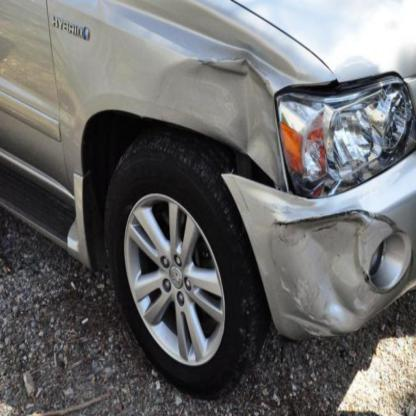door: (1, 1, 80, 255)
front_bumper: (223, 151, 416, 343)
headlamp: (276, 72, 413, 199)
hood: (232, 0, 414, 81)
